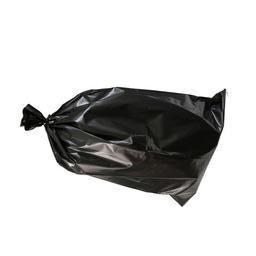plastic: (21, 88, 227, 206)
